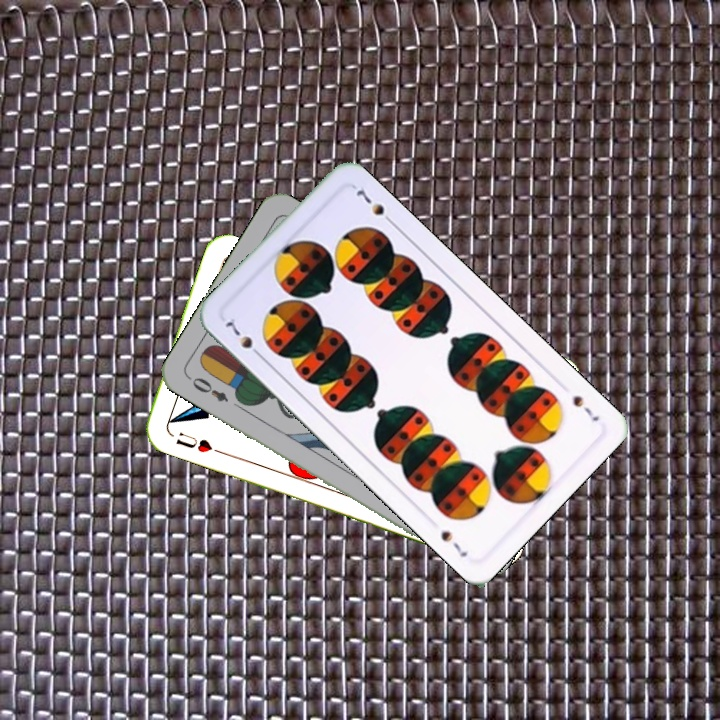EO: (184, 372, 231, 405)
HU: (172, 428, 215, 456)
S7: (221, 314, 266, 361), (568, 391, 602, 424)
